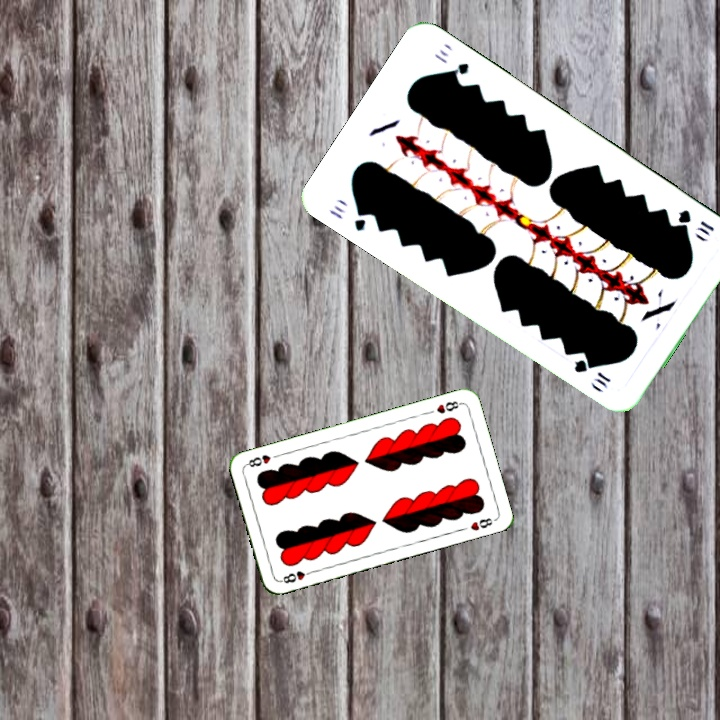G10: (324, 200, 371, 234), (673, 205, 717, 238)
H8: (276, 566, 316, 586), (432, 397, 464, 416)
